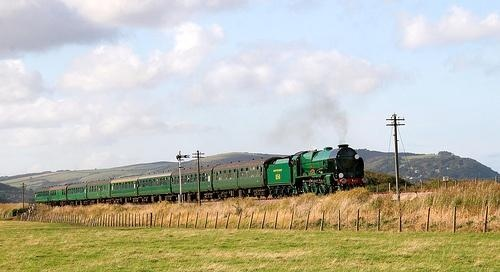train: (35, 144, 366, 204)
